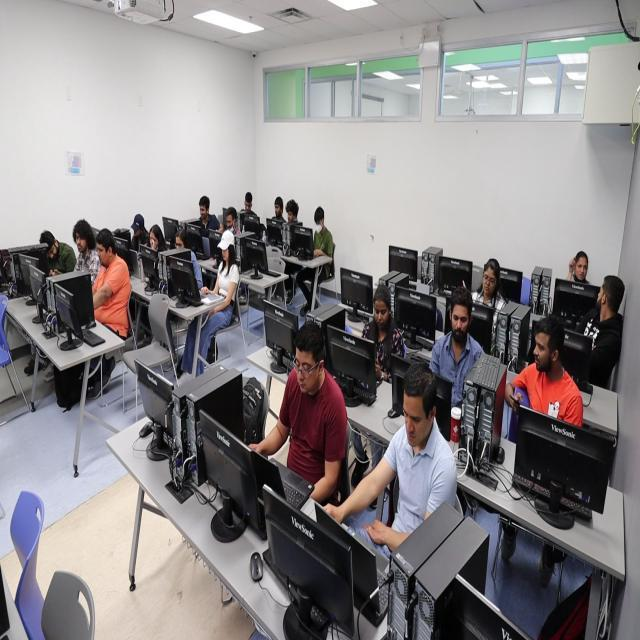Looking away: (449, 301, 472, 342), (405, 396, 423, 447), (595, 276, 619, 314), (295, 351, 316, 394), (482, 260, 500, 304), (533, 334, 551, 373), (373, 294, 391, 330), (574, 254, 589, 283), (44, 238, 60, 262), (96, 240, 110, 266), (75, 231, 88, 253), (174, 235, 186, 254), (226, 210, 236, 232), (149, 228, 159, 250), (199, 200, 209, 220), (314, 214, 324, 234), (220, 243, 230, 263), (274, 202, 282, 220), (287, 209, 296, 223), (244, 198, 252, 212)
